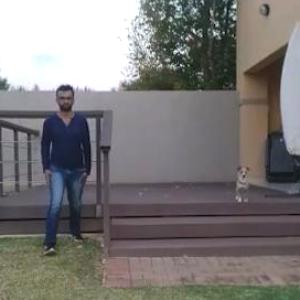follow: (41, 84, 91, 245)
